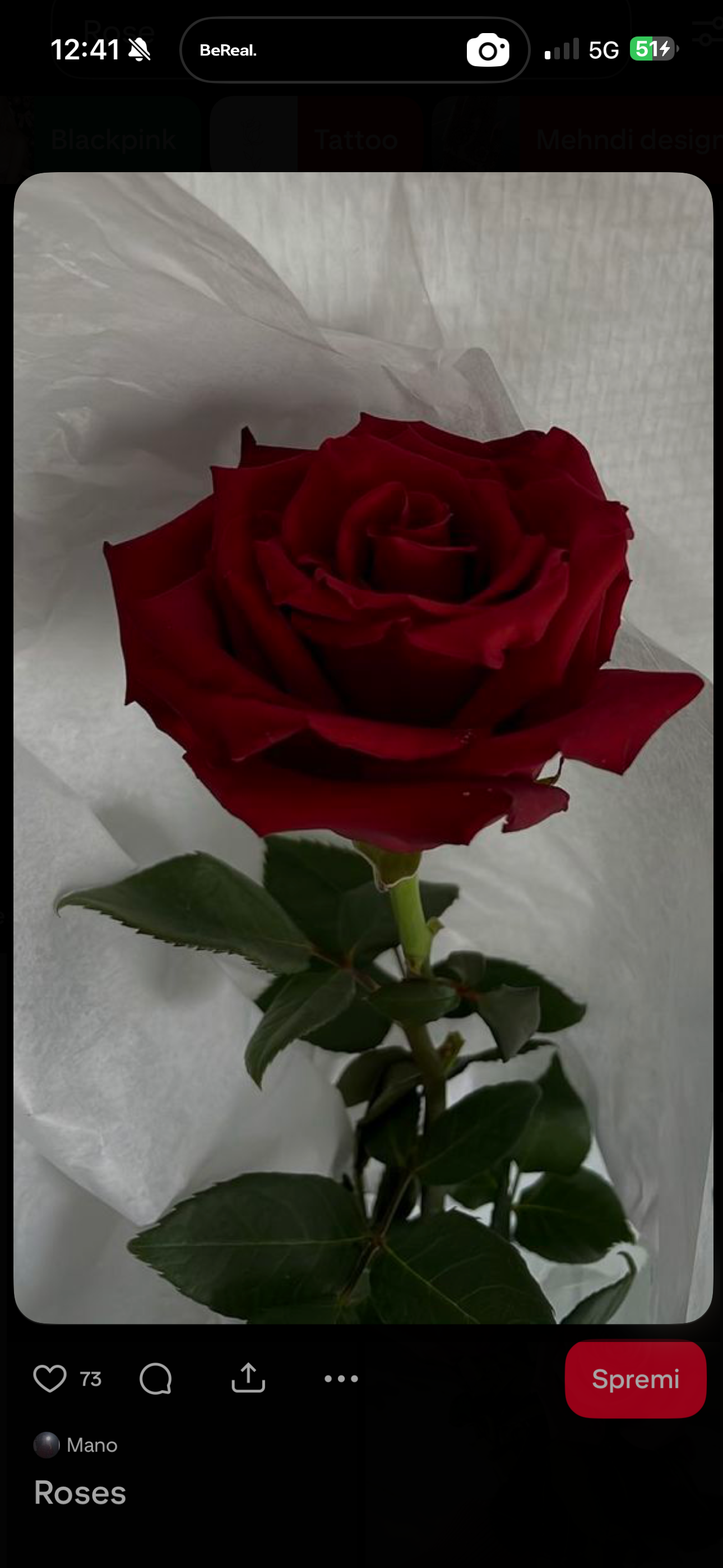rose: (94, 399, 708, 851)
